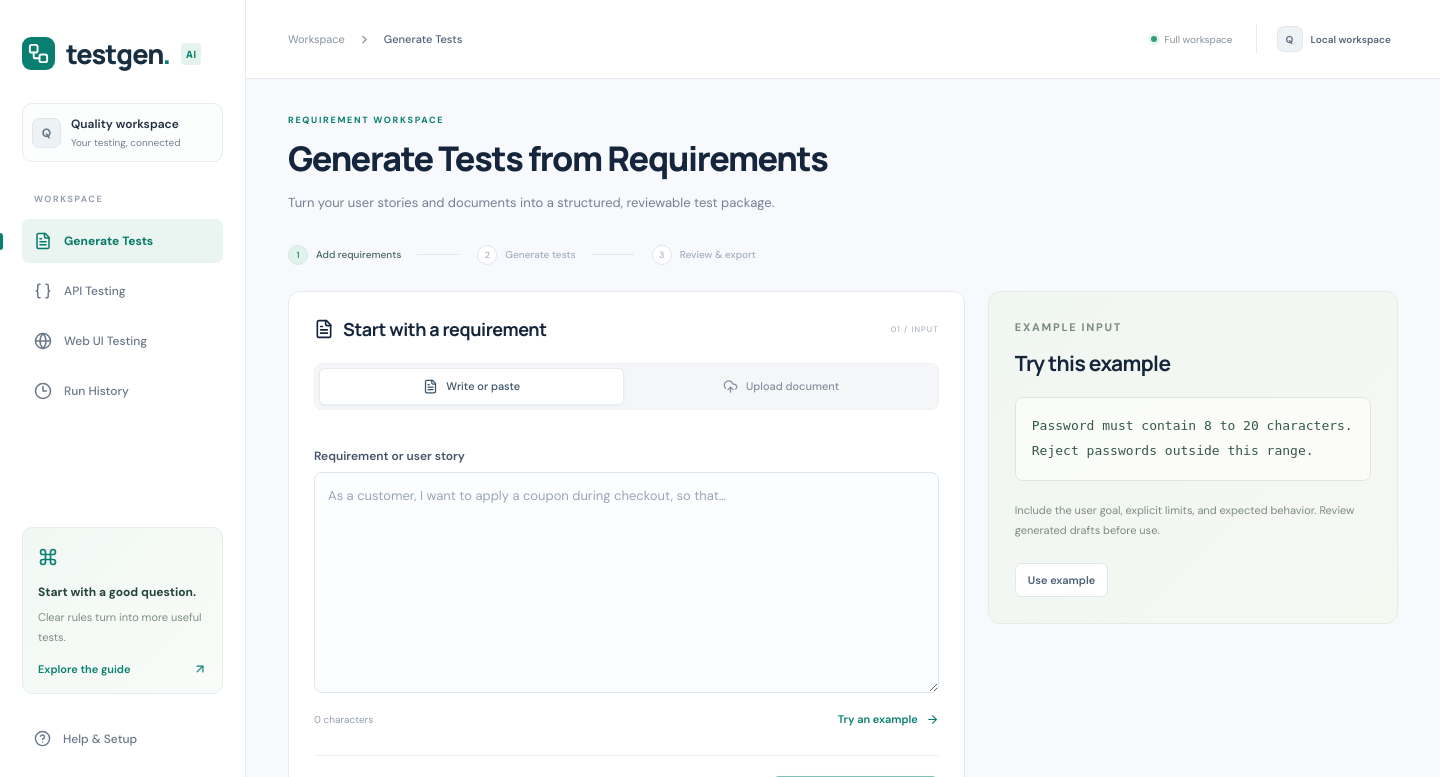
Test: a completed idempotent submission fetches its saved result
The width and height of the screenshot is (1440, 777).
Step 1. Click the button "Try an example" → (888, 719), box [838,708,939,730]
(page scrolled)
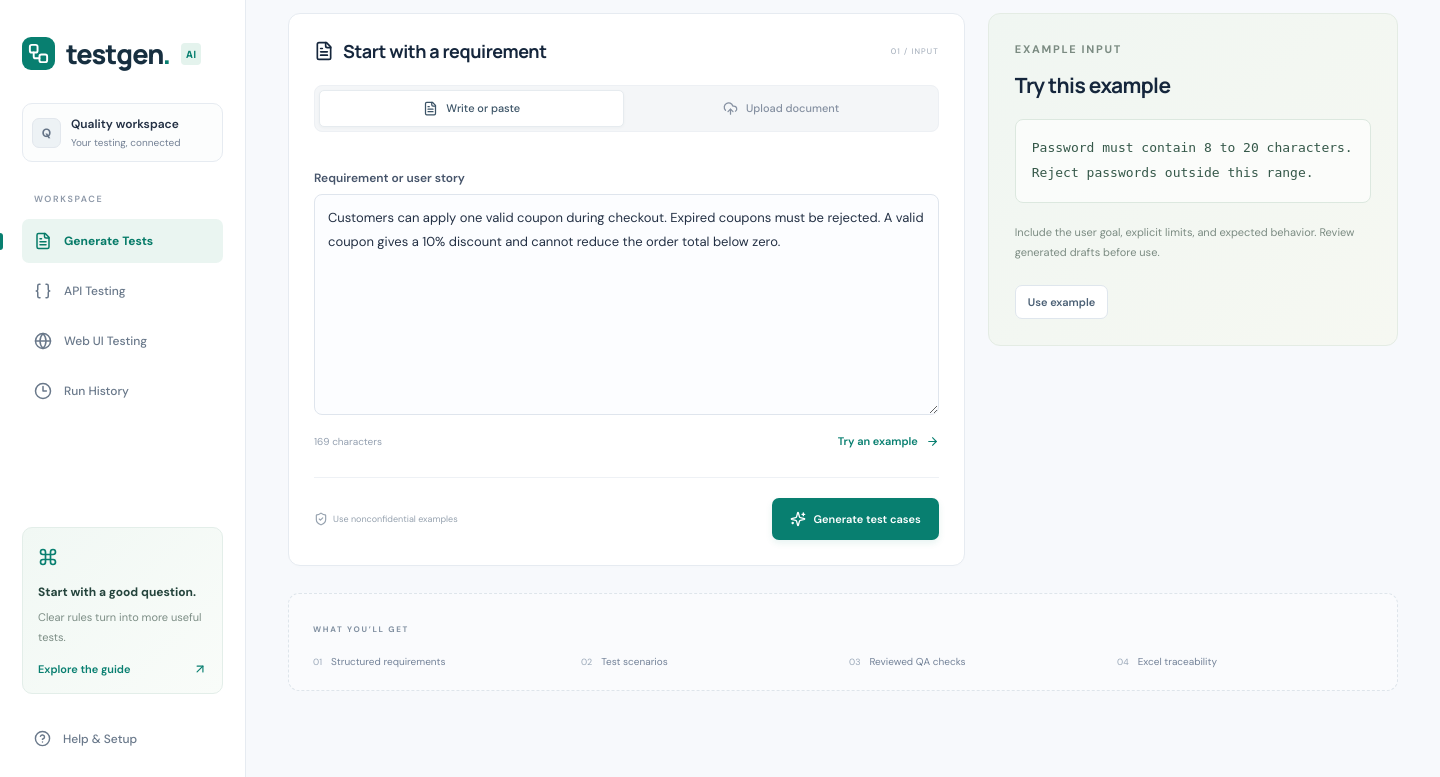
Step 2. Click the button "Generate test cases" → (855, 519), box [772,498,939,540]
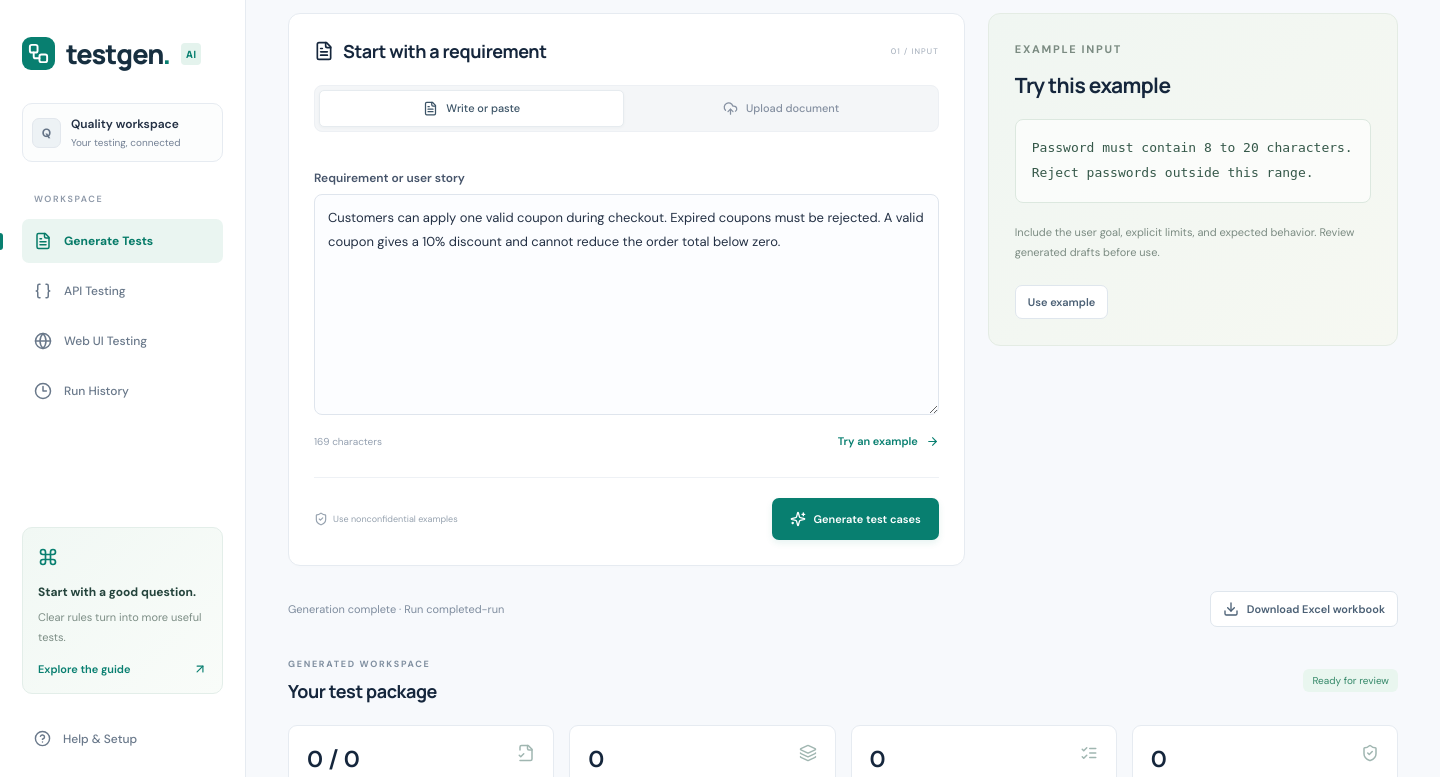
Check: the heading "Your test package" is shown, box [288,679,437,703]
